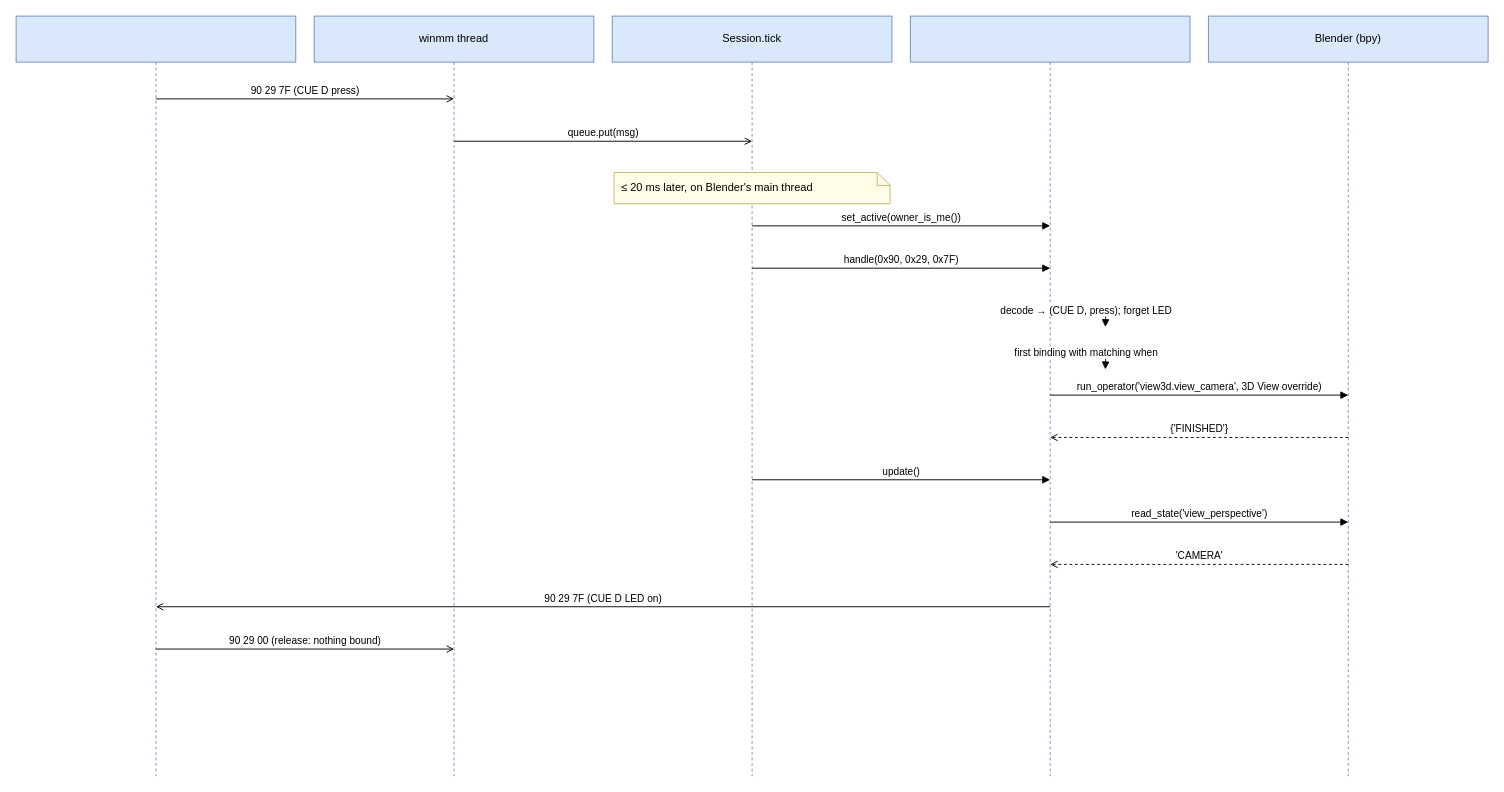
This 1504x792 diagram has some shape labels left out. Each missing label, with the box of its shape:
4-Mix: (15, 15, 296, 776)
Engine: (909, 15, 1190, 776)
